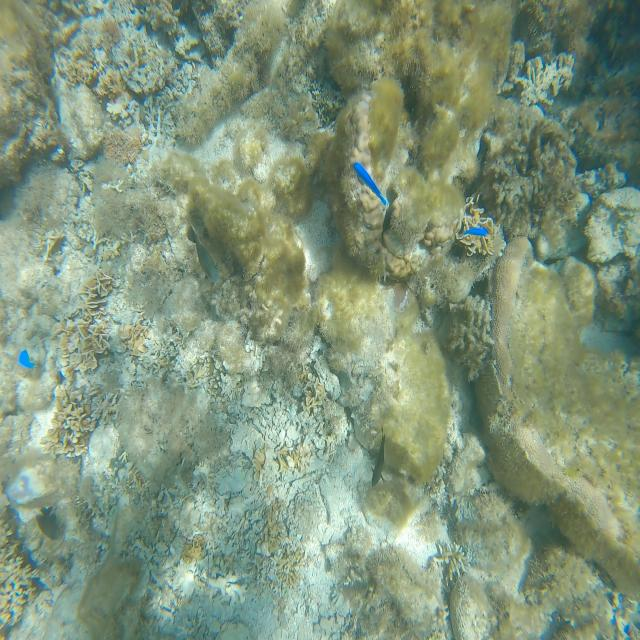kurohagi: (188, 226, 219, 283), (36, 507, 61, 540), (372, 434, 385, 486)
rurisuzumedai: (353, 162, 388, 207), (18, 350, 34, 368), (464, 226, 488, 236)
